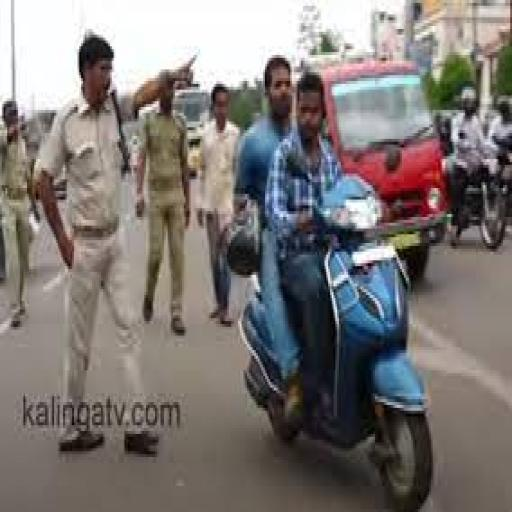overloading: (226, 176, 436, 506)
